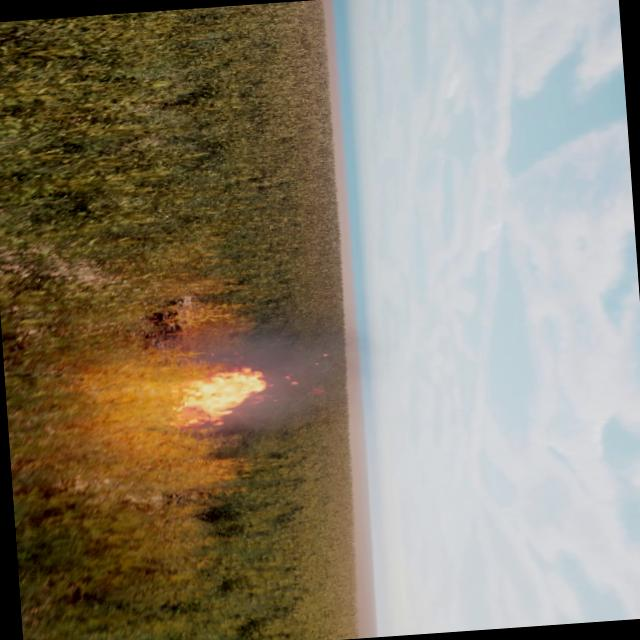fire: (139, 366, 275, 484)
smoke: (172, 317, 352, 440)
